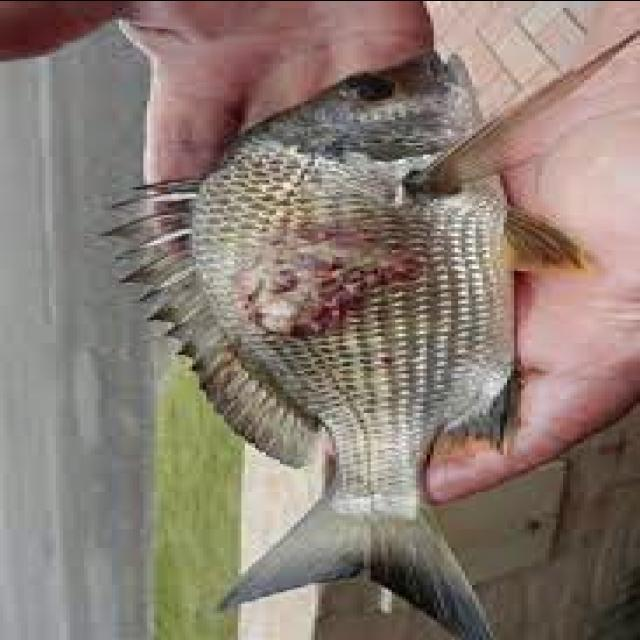EUS Disease: (111, 54, 589, 636), (212, 172, 511, 399)
